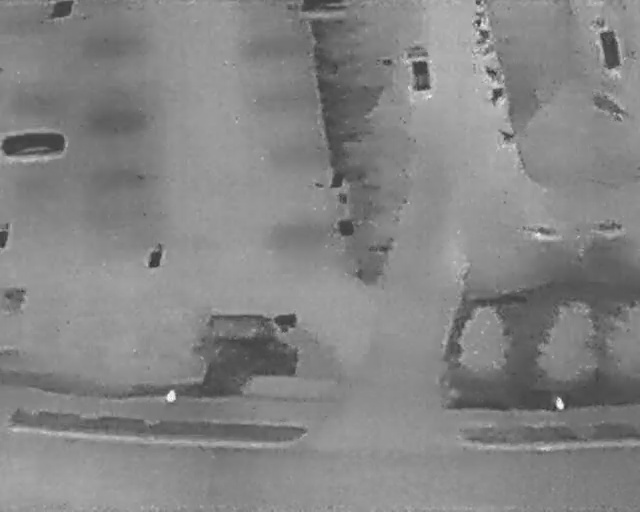Car: (2, 129, 65, 160), (404, 43, 433, 94)
